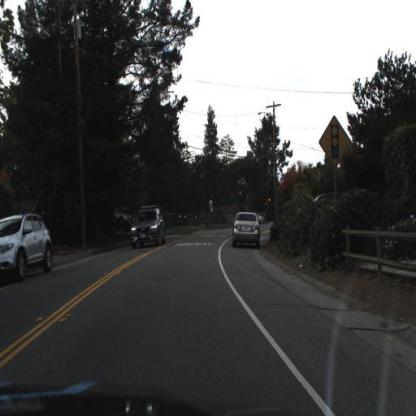car: (1, 212, 56, 286), (129, 205, 168, 252), (232, 211, 261, 245)
